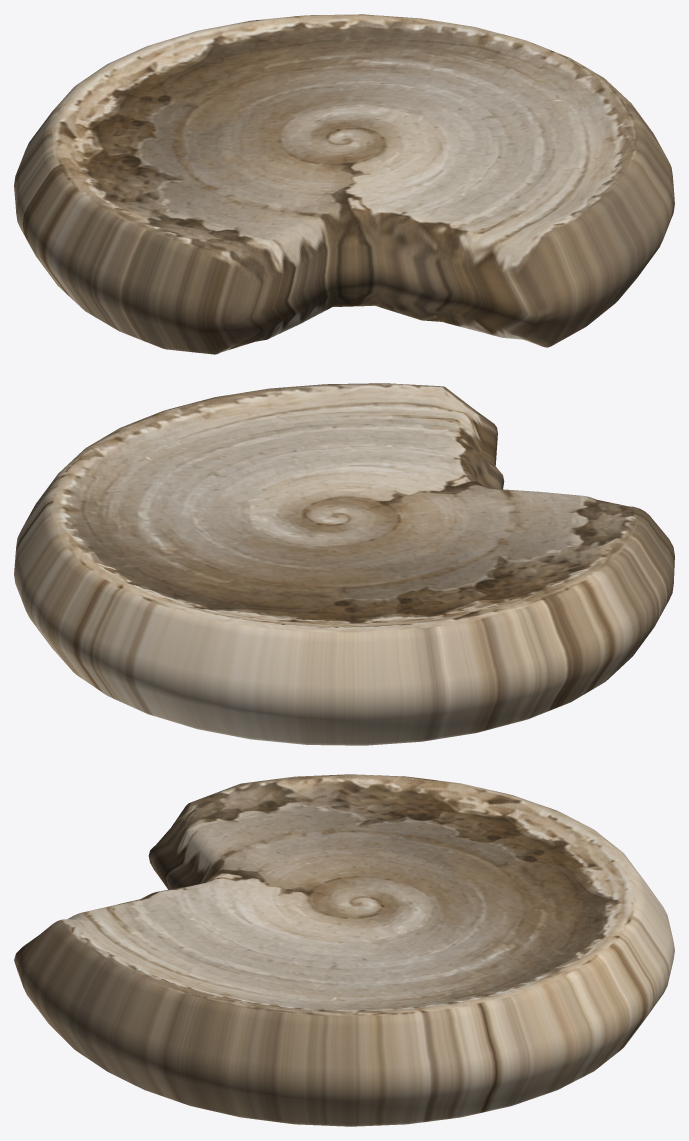
Rendered from Otodus_poseidoni.glb.
The picture shows the model from 3 angles, top to bottom: view 1: azimuth 30°, elevation 25°; view 2: azimuth 150°, elevation 25°; view 3: azimuth 270°, elevation 25°; orthographic projection. The views are drawn at different scales.
Visible parts, largest first — view 1: Otodus_poseidoni; view 2: Otodus_poseidoni; view 3: Otodus_poseidoni.
Boxes of the visible parts, box(x1,y1,x2,y2) form: Otodus_poseidoni: box(14, 14, 674, 354); Otodus_poseidoni: box(14, 383, 674, 745); Otodus_poseidoni: box(14, 774, 674, 1126).
Bounding box in the file's own units: 1.6 × 0.3052 × 1.64.
Materials: 1 (1 with a texture image).
